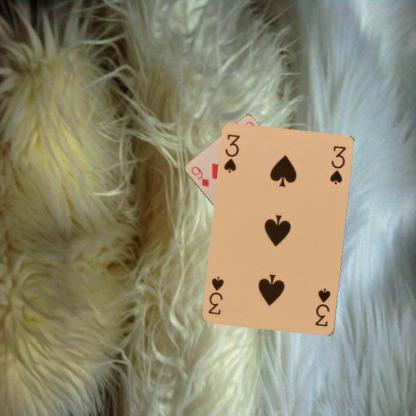3s: (221, 132, 242, 174), (312, 286, 332, 328)
9d: (188, 164, 210, 188)
